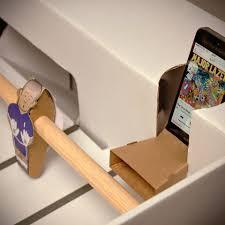Cardboard: (6, 77, 73, 188), (107, 135, 189, 197)
